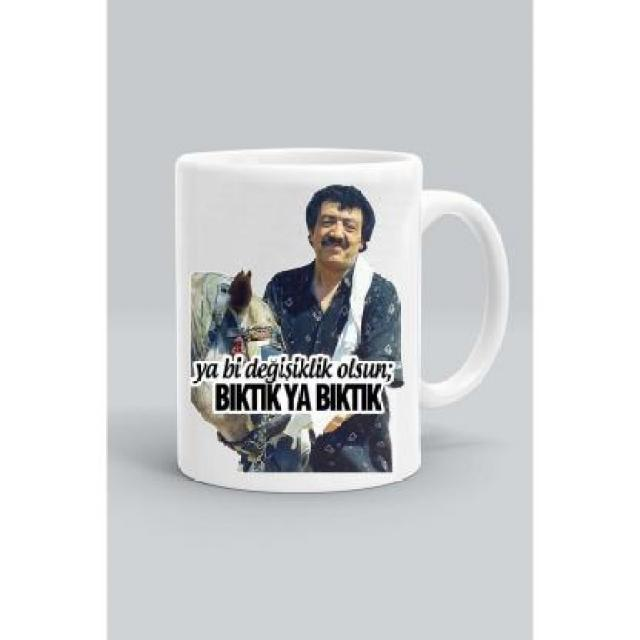taza: (173, 148, 508, 492)
